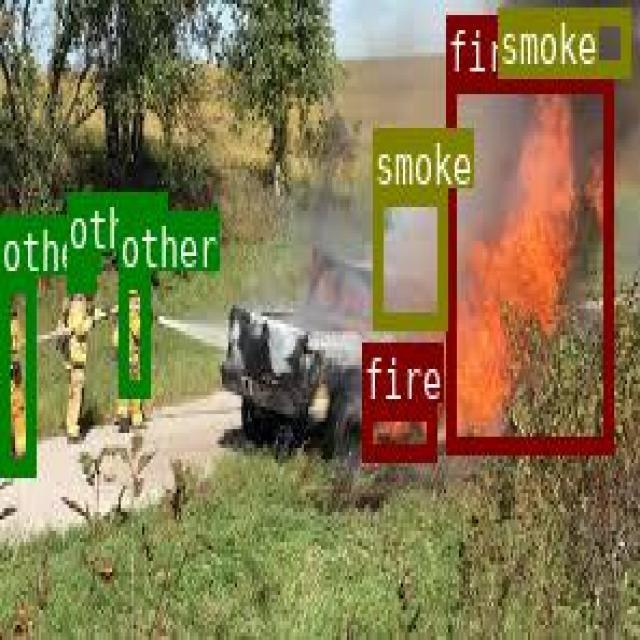fire: (444, 74, 611, 449), (361, 401, 435, 456)
smoke: (373, 186, 446, 325), (497, 5, 628, 75)
